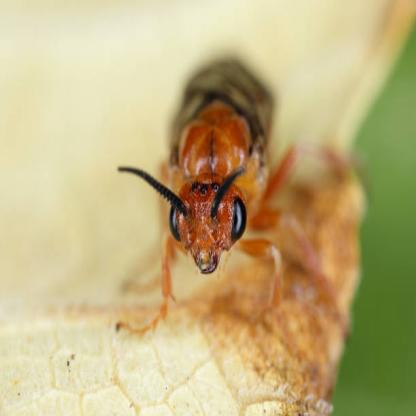sawfly: (109, 36, 365, 359)
